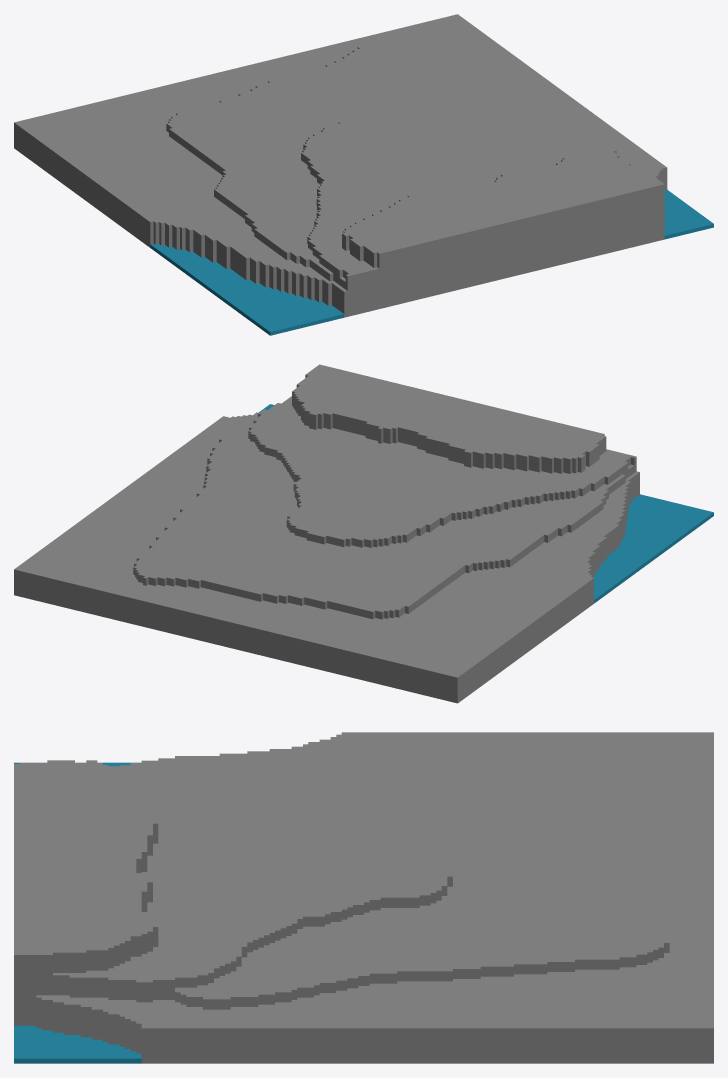
The model's file is Light House-2.obj.
3 renders of one model, top to bottom at view 1: azimuth 30°, elevation 25°; view 2: azimuth 150°, elevation 25°; view 3: azimuth 270°, elevation 25°, orthographic. The views are drawn at different scales.
Parts seen in each view (by area): view 1: Light House-2; view 2: Light House-2; view 3: Light House-2.
Boxes of the visible parts, bbox=[...] form: Light House-2: bbox=[14, 14, 713, 335]; Light House-2: bbox=[14, 364, 713, 703]; Light House-2: bbox=[14, 732, 713, 1063].
Bounding box in the file's own units: 126 × 15 × 126.
1 material, 1 textured.
